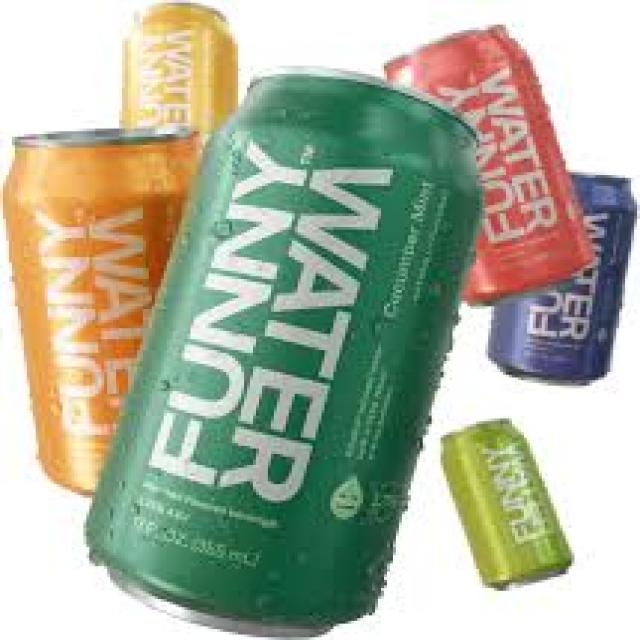Cans: (59, 60, 462, 635), (428, 416, 580, 596)
